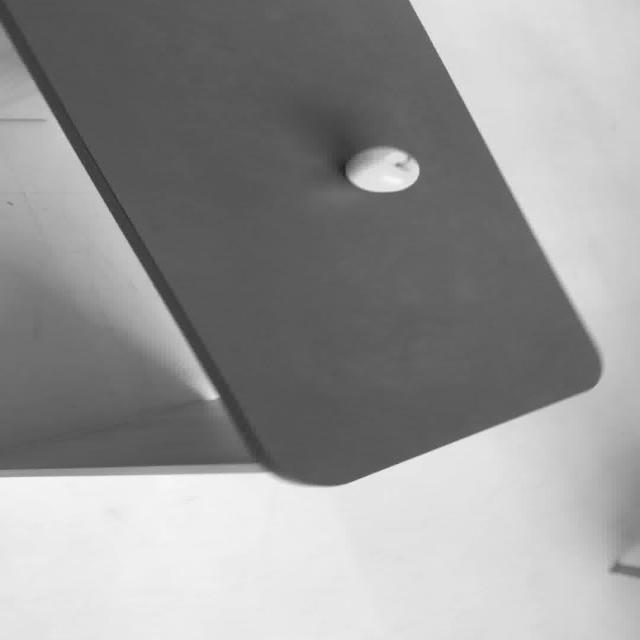apple: (342, 145, 420, 192)
